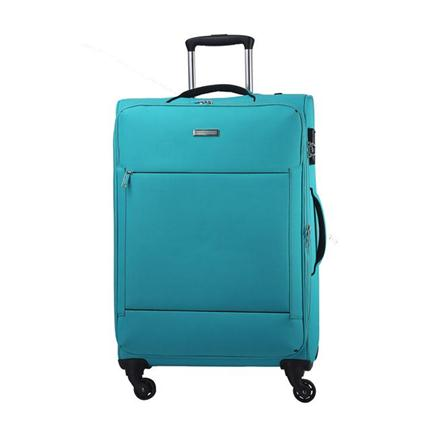luggage: (113, 32, 329, 399)
